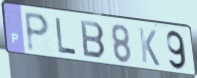8: (110, 23, 133, 64)
9: (165, 29, 188, 72)
B: (79, 18, 108, 61)
K: (137, 26, 162, 68)
L: (54, 16, 78, 57)
P: (23, 10, 51, 55)
